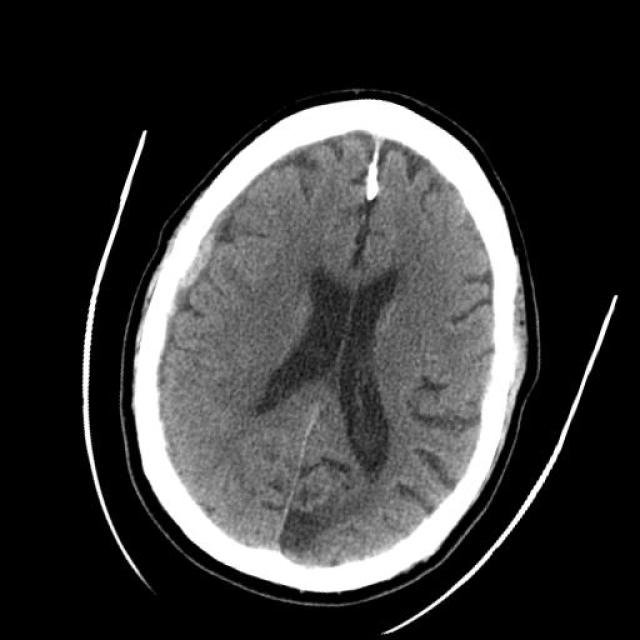Subdural: (101, 135, 256, 435)
